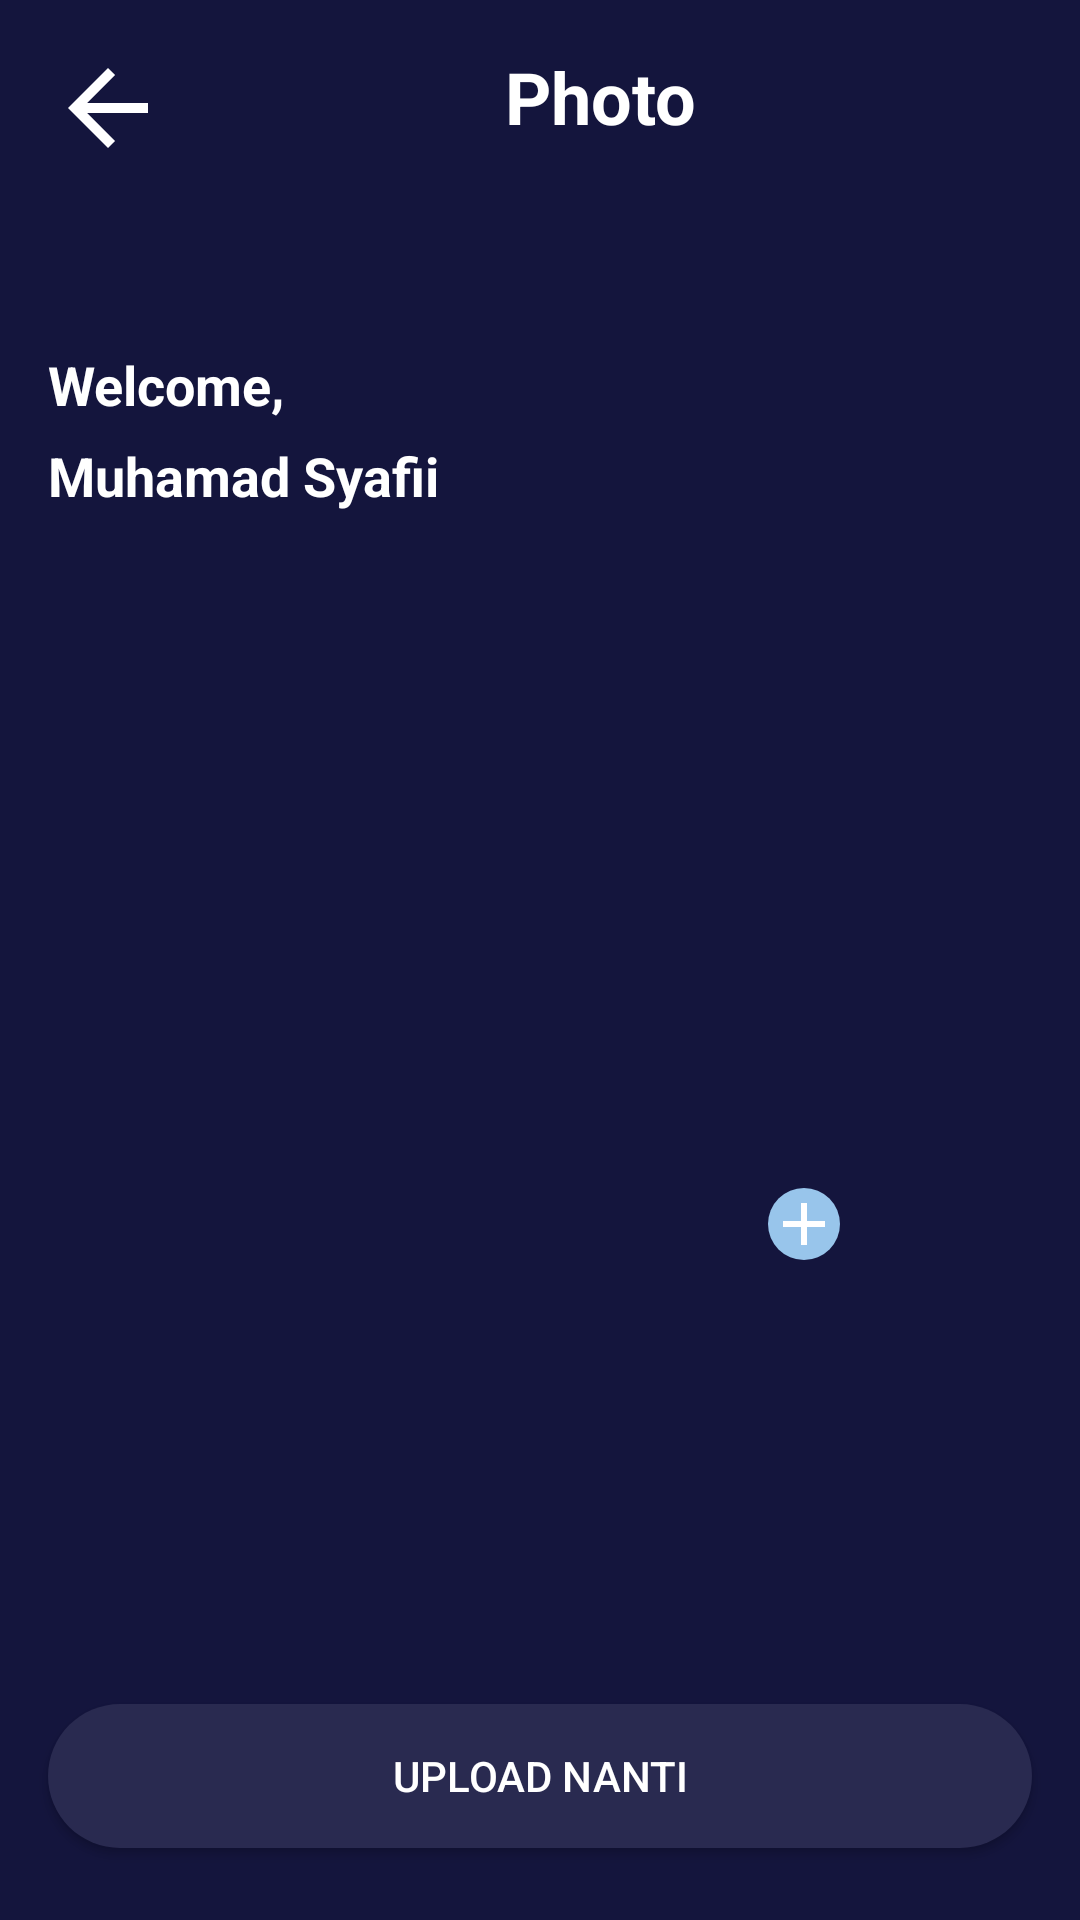

Screen size 1080w x 1920h. Icon name, then its box in pixels as (x1=x1, y1=y1, x2=x2, y2=y2):
add upload: (x1=768, y1=1188, x2=840, y2=1260)
arrow left: (x1=68, y1=68, x2=148, y2=148)
